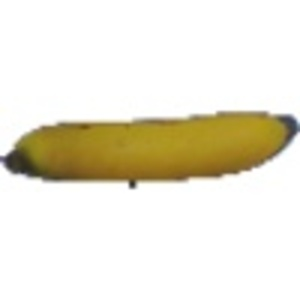banana: (2, 106, 297, 183)
